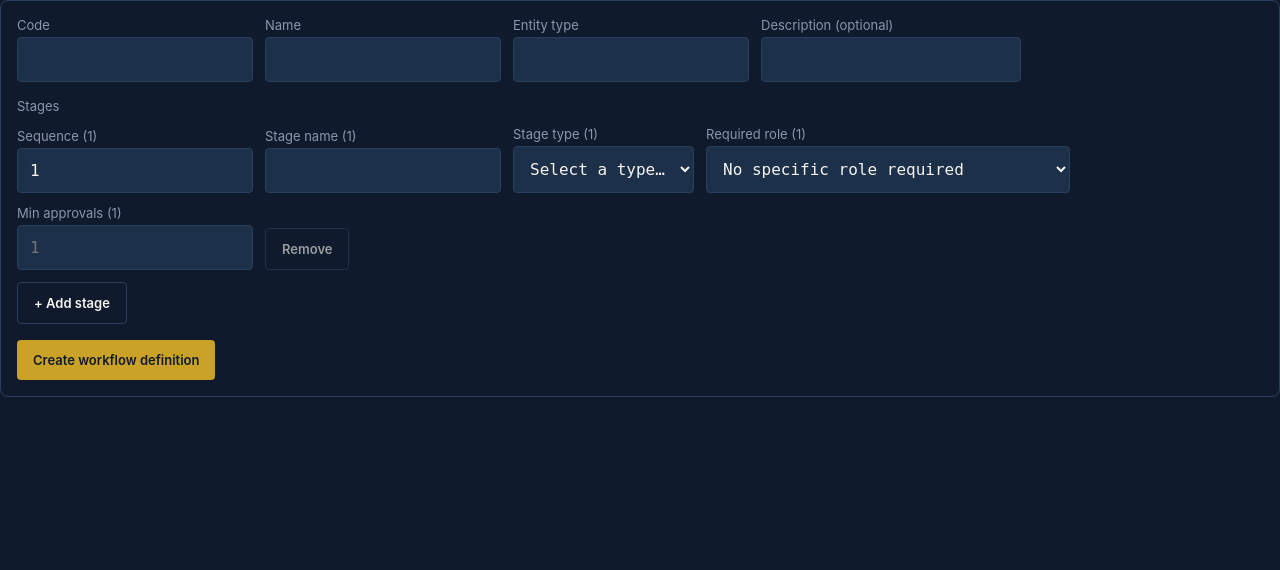
CreateWorkflowDefinitionForm › removes a stage row, but not the last remaining one
What coordinates should you click on to do the following:
click the button "+ Add stage"
I would click on:
 (72, 303)
Its box is top-left (17, 282), bottom-right (127, 324).
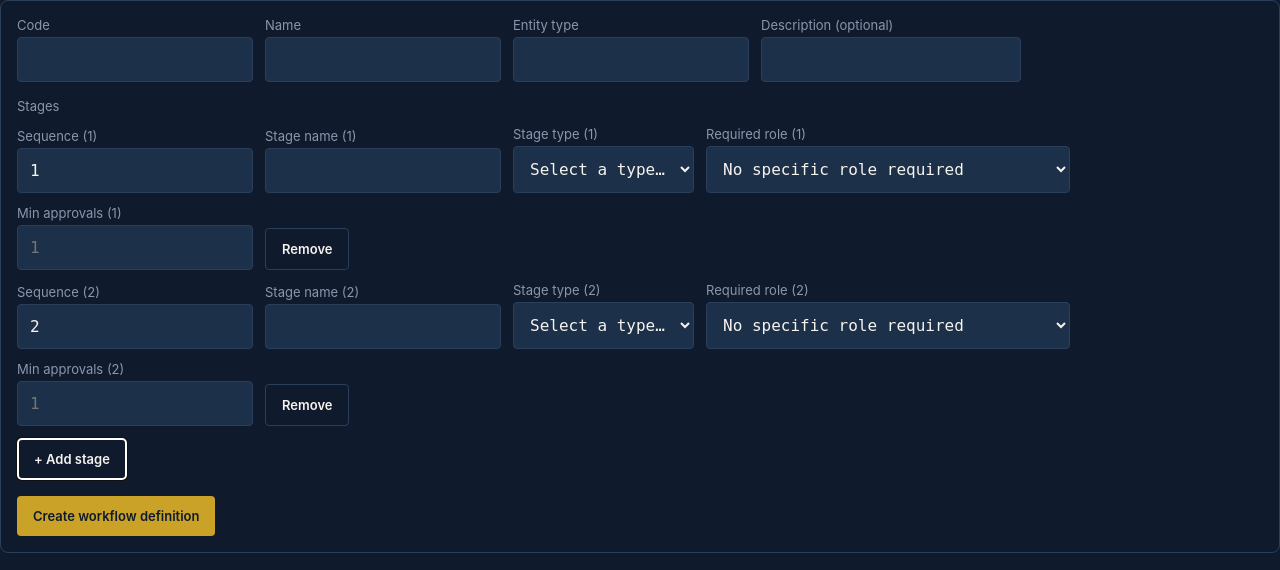
Now the number field labelled "Sequence (2)" is shown, box top-left (17, 304), bottom-right (253, 349)
What coordinates should you click on to do the following:
click the button "Remove" below "Min approvals (2)"
I would click on:
 (307, 405)
Its box is top-left (265, 384), bottom-right (350, 426).
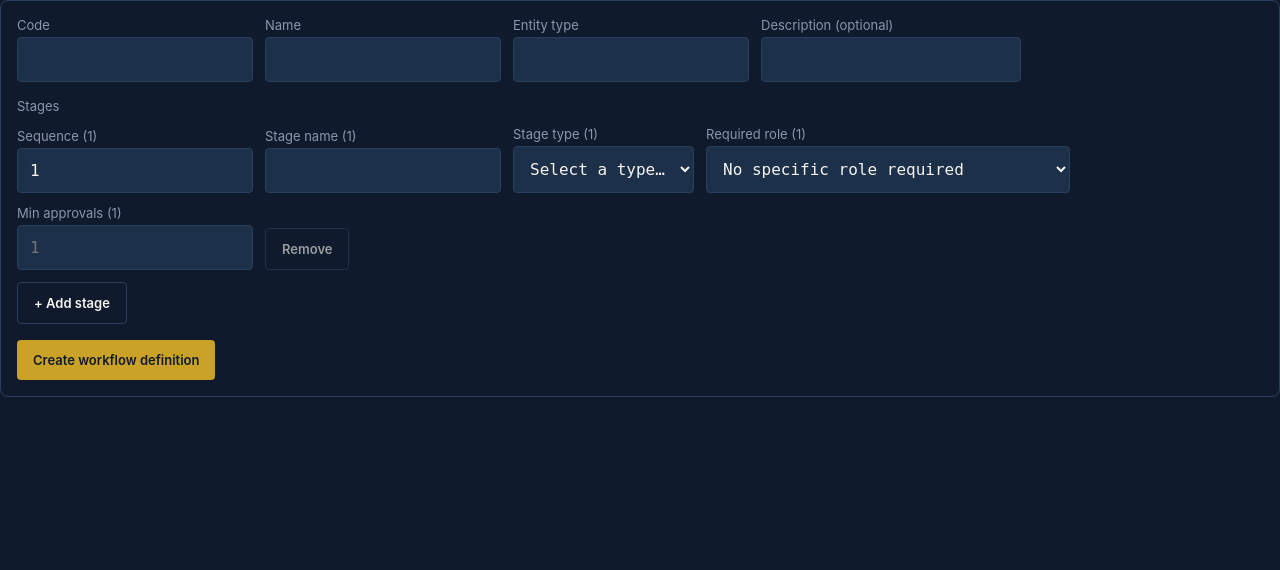
Now the label labelled "Sequence (2)" is gone
Now the button "Remove" is disabled, box top-left (265, 228), bottom-right (350, 270)
